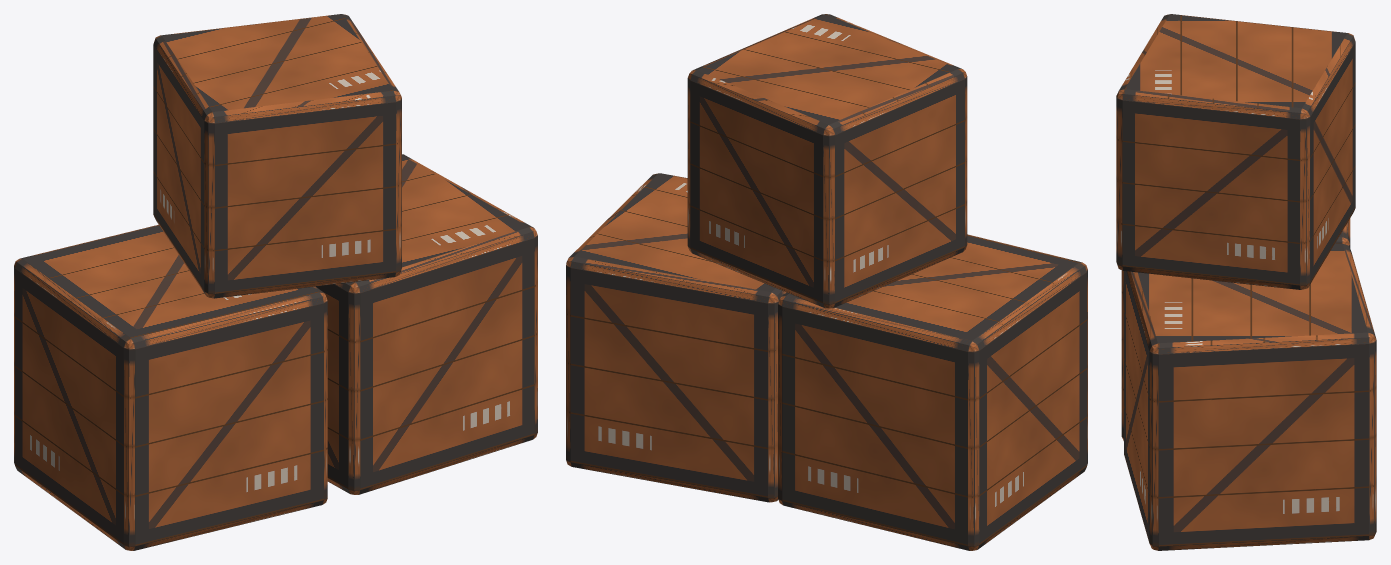
File: crate_stack.glb
The picture shows the model from 3 angles, left to right: view 1: azimuth 30°, elevation 25°; view 2: azimuth 150°, elevation 25°; view 3: azimuth 270°, elevation 25°; orthographic projection. The views are drawn at different scales.
Parts seen in each view (by area): view 1: crate_stack; view 2: crate_stack; view 3: crate_stack.
Part boxes in pixels (left/top/right/bottom): crate_stack: left=14, top=14, right=537, bottom=550; crate_stack: left=566, top=14, right=1087, bottom=550; crate_stack: left=1116, top=14, right=1376, bottom=550.
Size of the model in its own units: 1.68 by 1.5 by 0.9097.
Materials: 1 (1 with a texture image).
